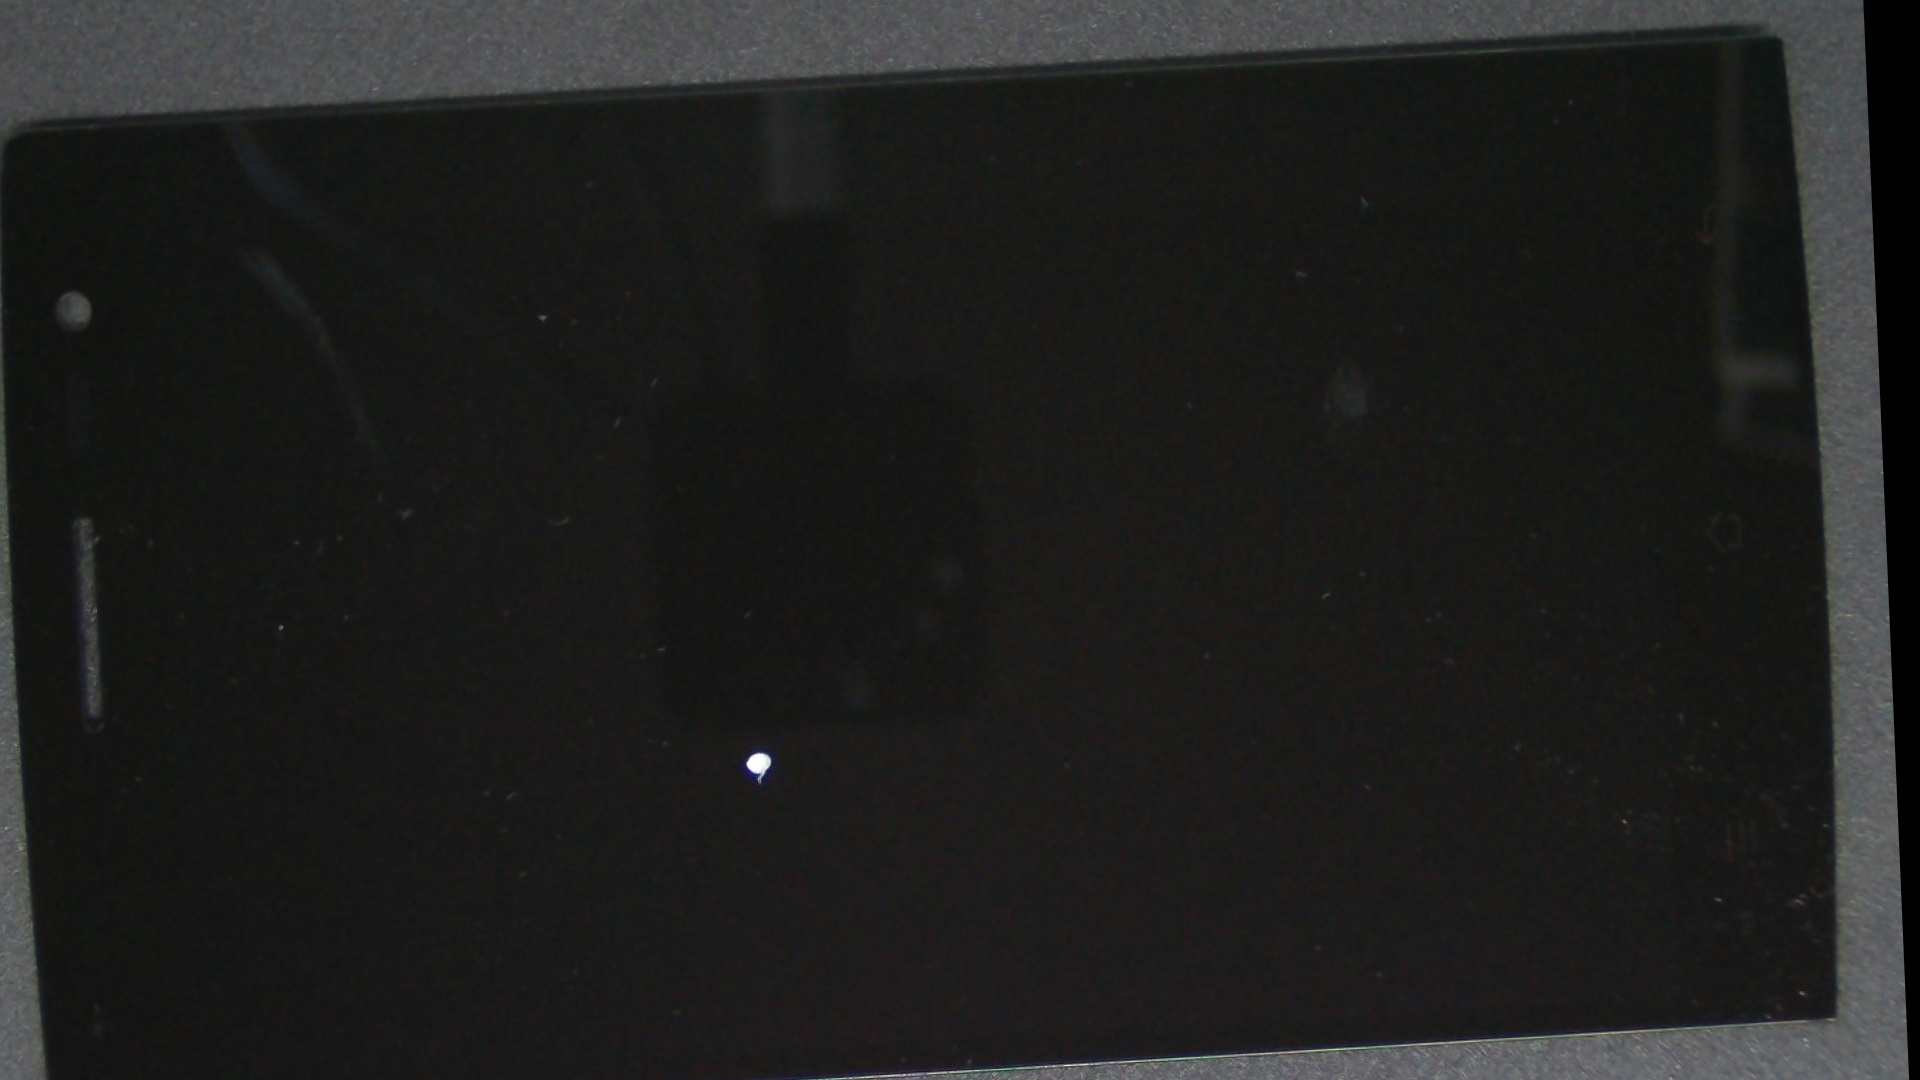oil: (309, 332, 1195, 1080)
